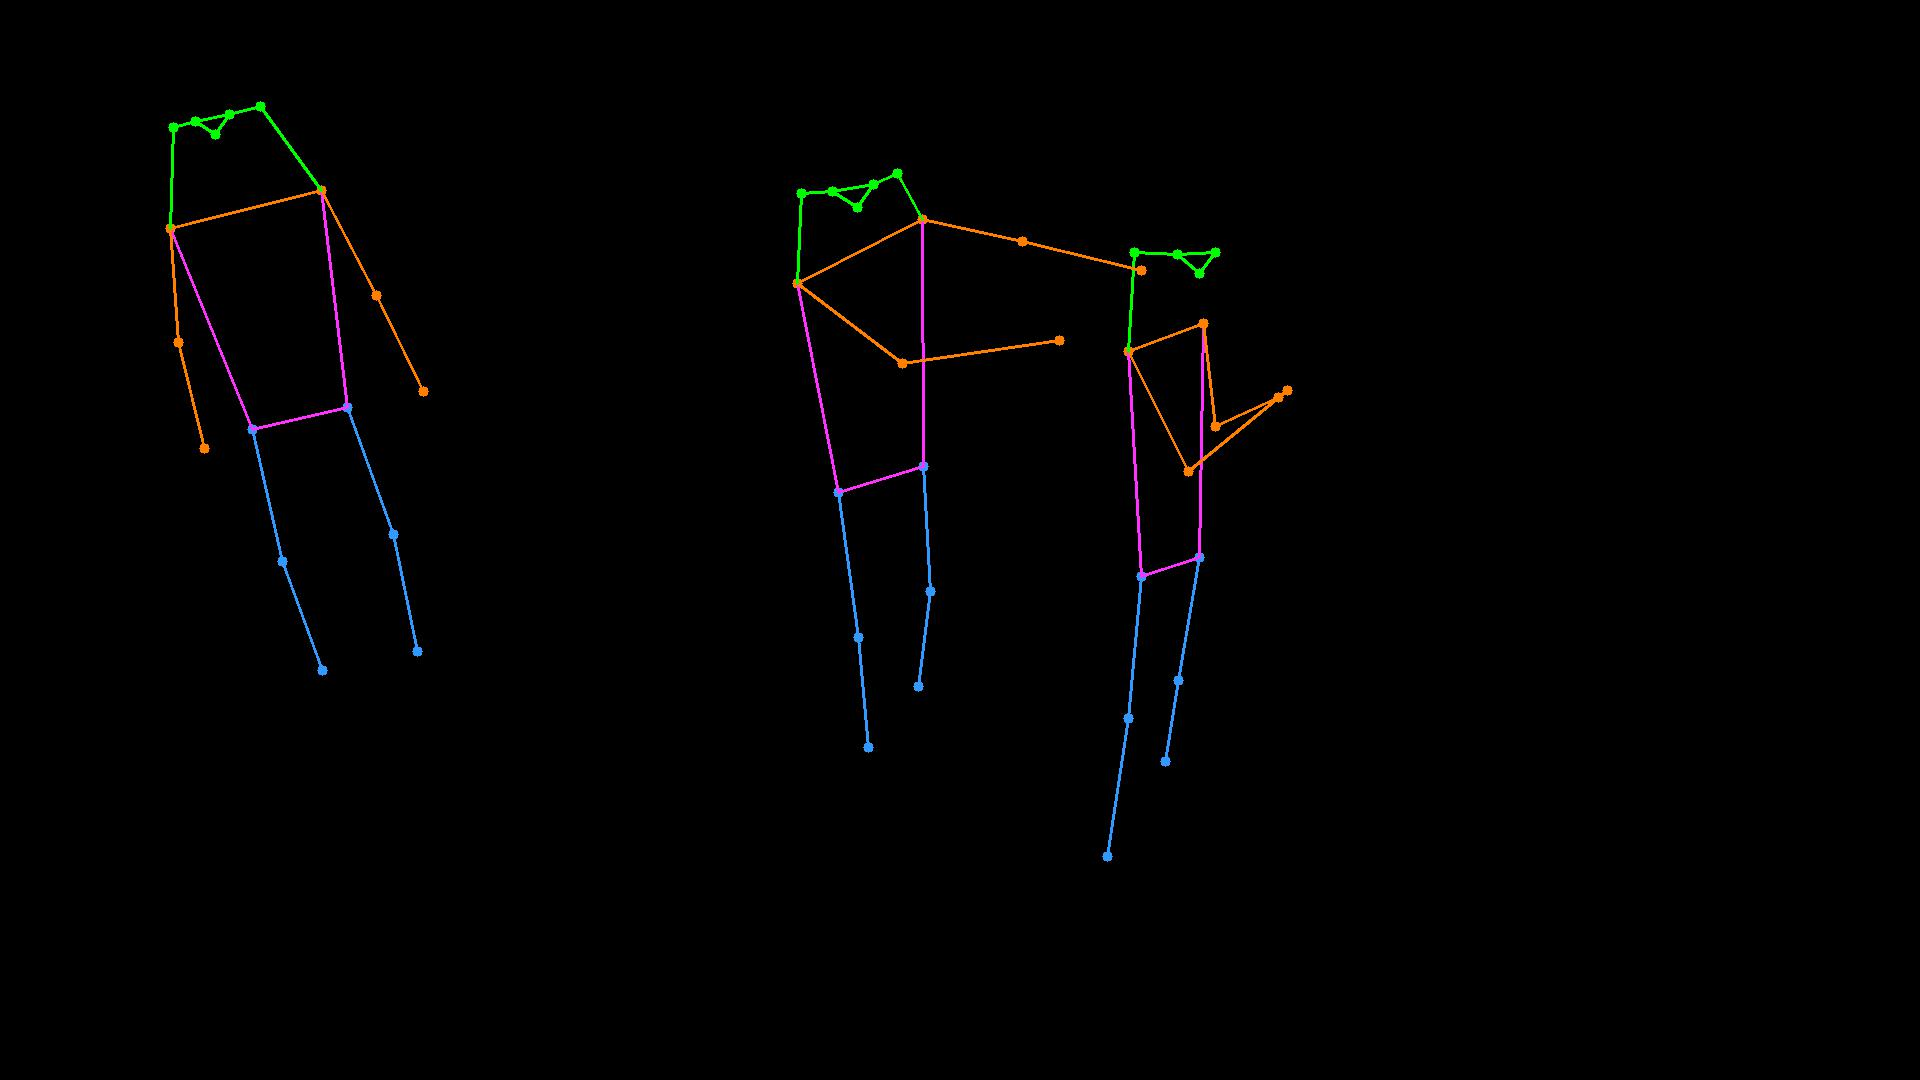normal: (705, 140, 1354, 915), (109, 74, 510, 724)
